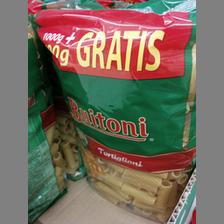Nudeln: (34, 0, 194, 220)
